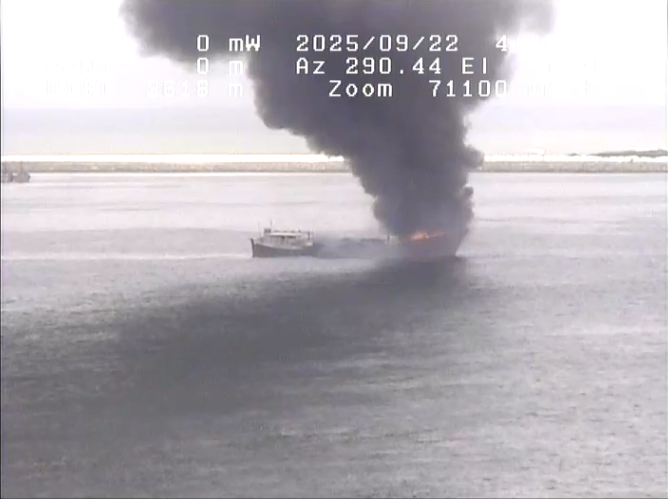FIRE_ONBOARD: (136, 6, 571, 292)
FISHING_VESSEL: (236, 205, 495, 274)
